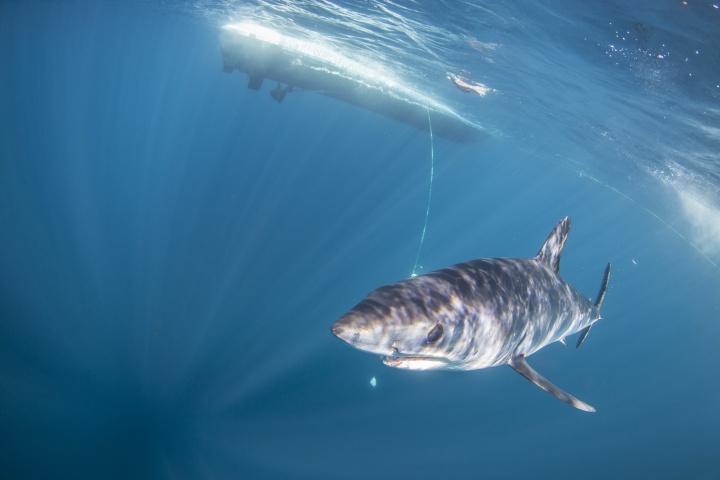Mako: (320, 208, 628, 423)
